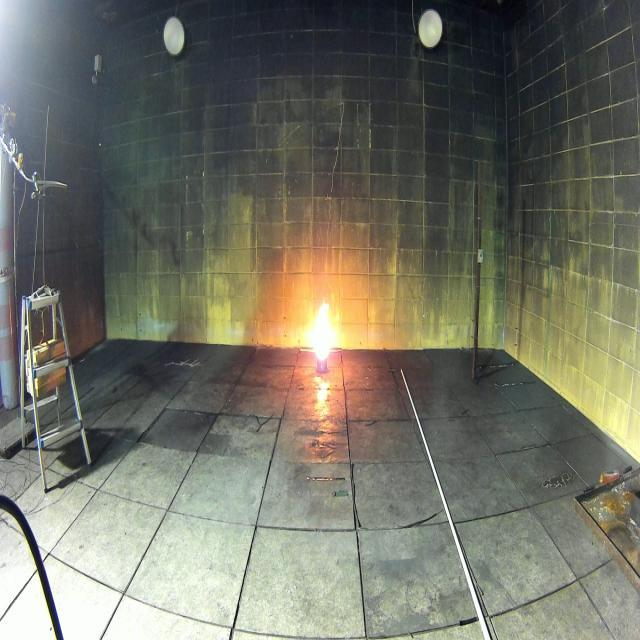Fire: (315, 298, 329, 360)
